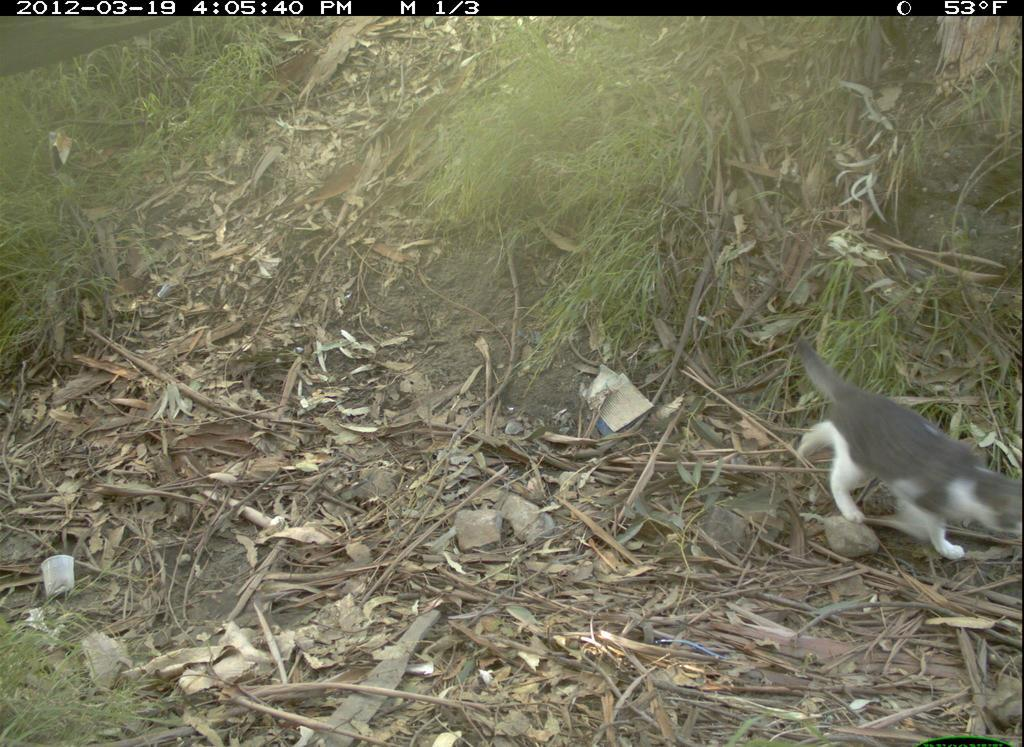cat: (786, 333, 1023, 575)
